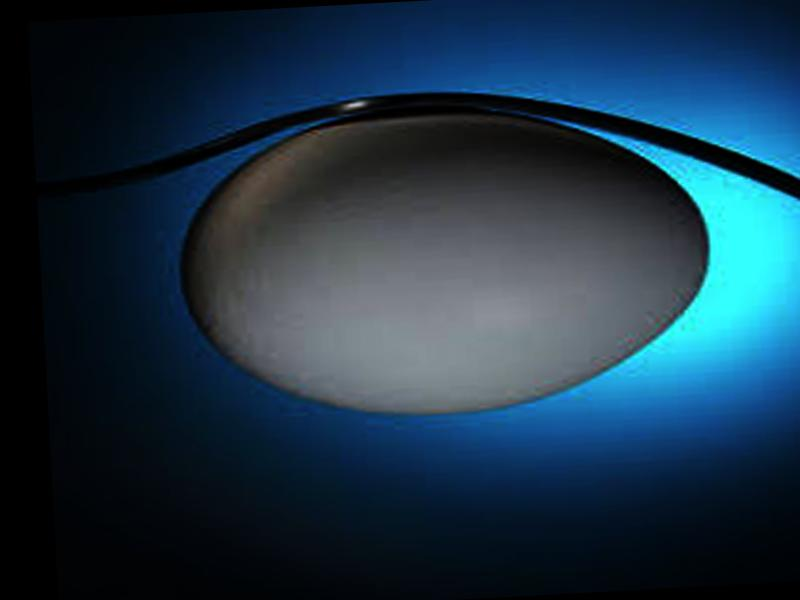Eggs: (174, 97, 716, 423)
